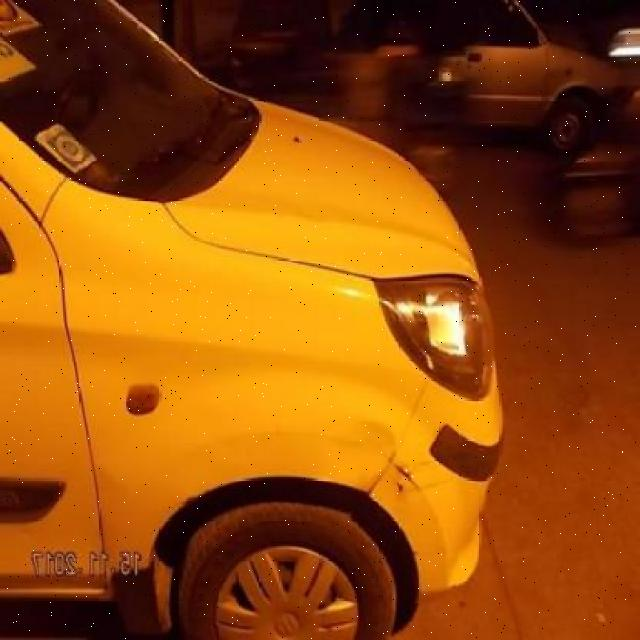damage: (349, 418, 397, 468), (384, 452, 425, 502)
